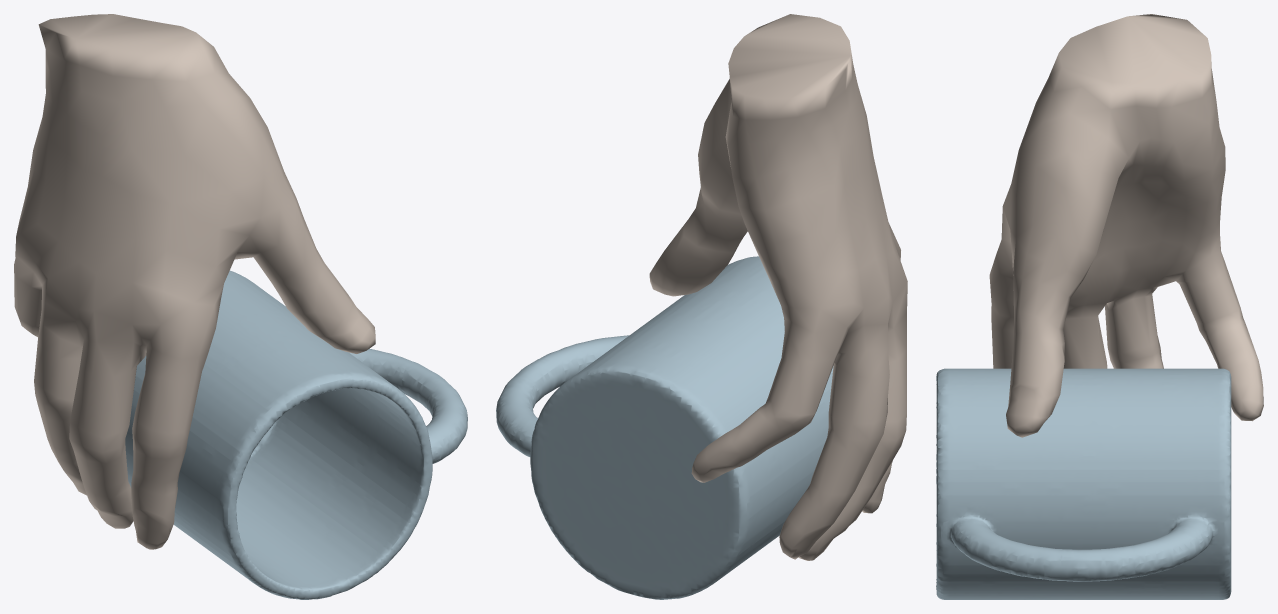
The model's file is ours_3.glb.
3 renders of one model, left to right at view 1: azimuth 30°, elevation 25°; view 2: azimuth 150°, elevation 25°; view 3: azimuth 270°, elevation 25°, orthographic. The views are drawn at different scales.
Size of the model in its own units: 0.1493 by 0.1965 by 0.1165.
